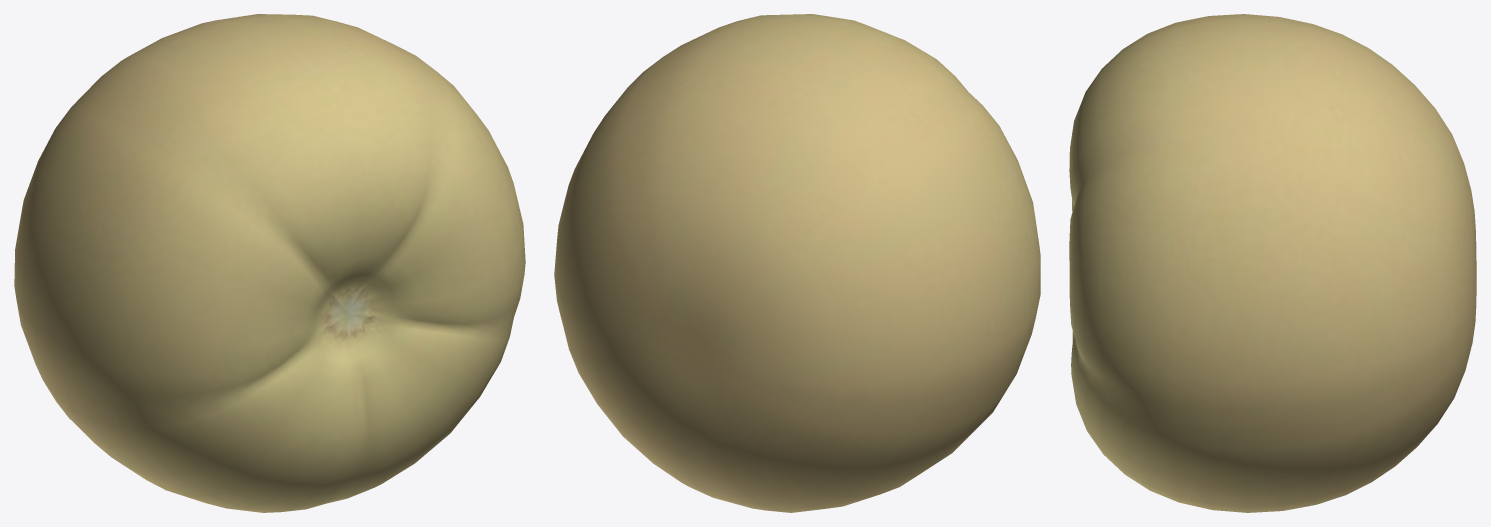
Rendered from YellowTomatoFlesh.obj.
3 renders of one model, left to right at view 1: azimuth 30°, elevation 25°; view 2: azimuth 150°, elevation 25°; view 3: azimuth 270°, elevation 25°, orthographic. The views are drawn at different scales.
Visible parts, largest first — view 1: YellowTomatoFlesh; view 2: YellowTomatoFlesh; view 3: YellowTomatoFlesh.
Part boxes in pixels (x1,y1,x2,y2): YellowTomatoFlesh: (14,14,525,512); YellowTomatoFlesh: (554,14,1040,512); YellowTomatoFlesh: (1069,14,1476,512).
Size of the model in its own units: 0.0628 by 0.0625 by 0.0513.
Materials: 1 (1 with a texture image).
